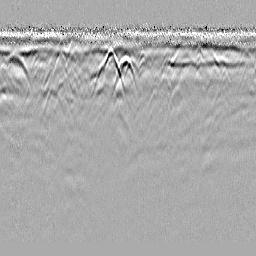cavity: (110, 52, 138, 98)
